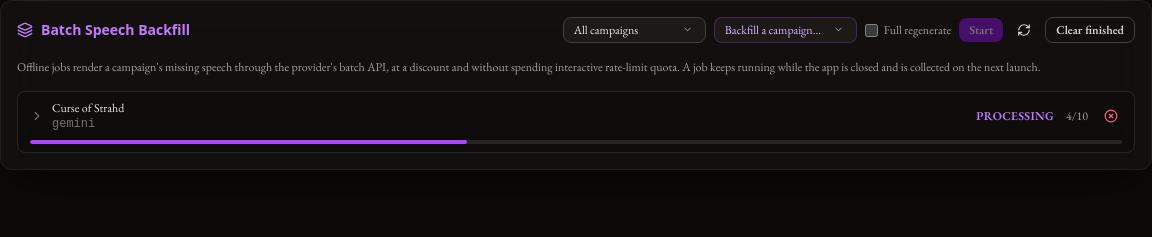
Test: TTSBatchPanel › error states › displays error when clearFinished finds no completed jobs
Expected: the text "Processing" is shown, left=976, top=108, right=1054, bottom=124
Click the button "Clear finished".
click(1090, 30)  # box left=1045, top=17, right=1135, bottom=43
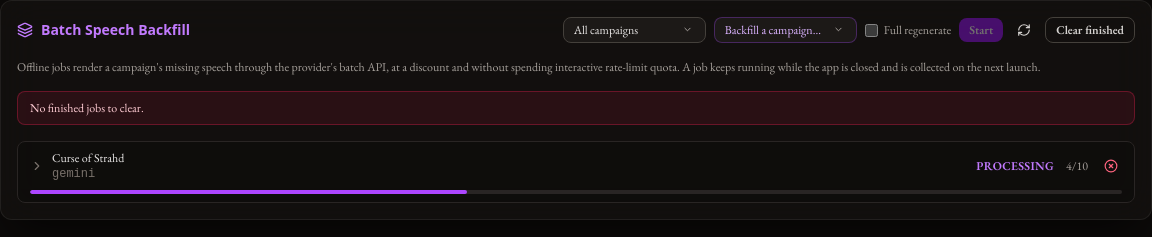
Now the text "No finished jobs to clear." is shown, box left=17, top=91, right=1135, bottom=125
